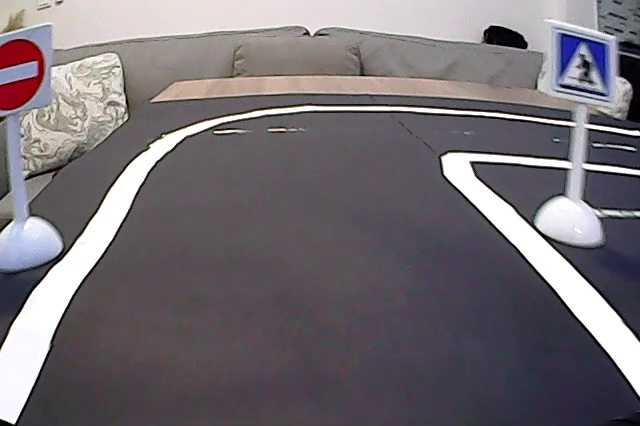do not enter: (1, 24, 50, 117)
pedestrian crossing: (549, 24, 614, 104)
